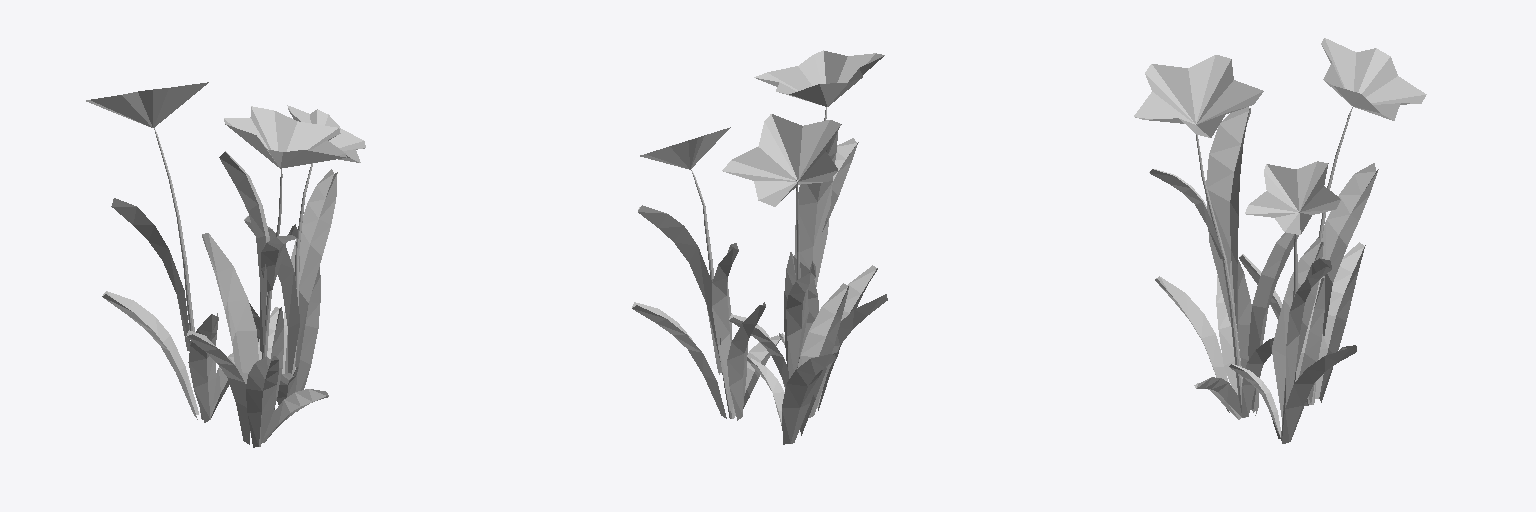
File: Flower_3_Group.obj
The picture shows the model from 3 angles: view 1: azimuth 30°, elevation 25°; view 2: azimuth 150°, elevation 25°; view 3: azimuth 270°, elevation 25°; orthographic projection.
Parts seen in each view (by area): view 1: Flower_3_Group; view 2: Flower_3_Group; view 3: Flower_3_Group.
Boxes of the visible parts, box(x1,y1,x2,y2) form: Flower_3_Group: box(86, 82, 365, 447); Flower_3_Group: box(632, 50, 887, 444); Flower_3_Group: box(1134, 38, 1426, 443).
Bounding box in the file's own units: 1.49 × 2.05 × 1.59.